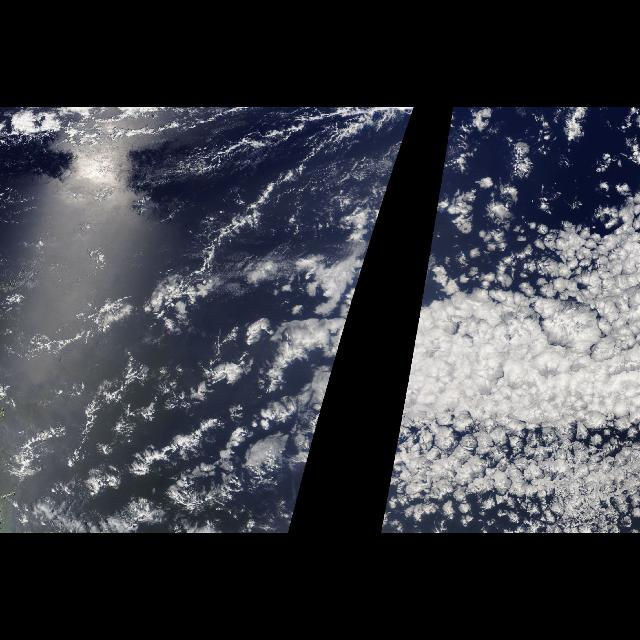Fish: (90, 107, 392, 325), (6, 347, 302, 533)
